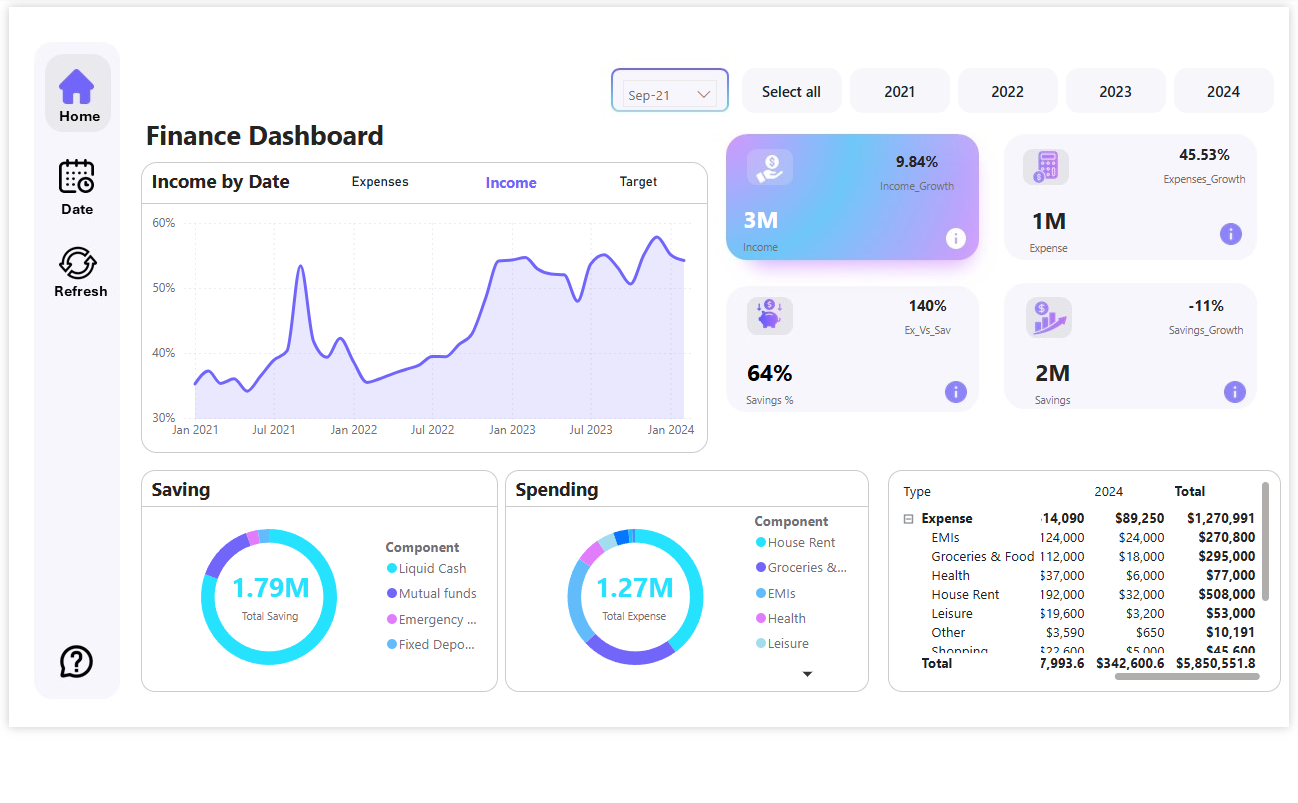

This screenshot's page, from the dashboard's own definition file:
{"tool":"powerbi","page":{"name":"Page 1","canvas":[1280,720],"ordinal":0},"visuals":[{"type":"advancedSlicerVisual","fields":{"Values":["FinData.Year"]},"box":[728,56,545,55],"z":0},{"type":"donutChart","title":"Spending","fields":{"Category":["FinData.Component"],"Y":["FinData.Expense"]},"box":[495.7,462.6,364.4,222.6],"z":1000},{"type":"donutChart","title":"Saving ","fields":{"Category":["FinData.Component"],"Y":["FinData.Saving"]},"box":[132,463,357,222],"z":2000},{"type":"pivotTable","fields":{"Values":["FinData.Total_Value"],"Rows":["FinData.Type","FinData.Component"],"Columns":["FinData.Year"]},"box":[878.7,462.6,393.7,222.6],"z":3000},{"type":"areaChart","fields":{"Category":["FinData.Date"],"Y":["FinData.Line_Chart_Meaures"]},"box":[132,155,567,291],"z":4000},{"type":"advancedSlicerVisual","fields":{"Values":["Line_Selection_Table.Type"]},"box":[333,135,404,83],"z":5000},{"type":"textbox","box":[132,104,284,51],"z":6000},{"type":"card","fields":{"Values":["FinData.Expense"]},"box":[991,181,97,82],"z":7000},{"type":"card","fields":{"Values":["FinData.Income"]},"box":[709,186,85,71],"z":8000},{"type":"card","fields":{"Values":["FinData.Savings"]},"box":[999,337,89,74],"z":9000},{"type":"card","fields":{"Values":["FinData.Savings %"]},"box":[718,337,85,74],"z":10000},{"type":"slicer","fields":{"Values":["Selected_Date.Month-Yr"]},"box":[604,63,114,41],"z":11000},{"type":"card","fields":{"Values":["FinData.Savings_Growth"]},"box":[1150,270,94,77],"z":12000},{"type":"card","fields":{"Values":["FinData.Expenses_Growth"]},"box":[1147,116,97,82],"z":13000},{"type":"card","fields":{"Values":["FinData.Income_Growth"]},"box":[849,130,118,68],"z":14000},{"type":"card","fields":{"Values":["FinData.Ex_Vs_Sav"]},"box":[870,267,97,83],"z":15000},{"type":"actionButton","box":[25,147,83,64],"z":16000},{"type":"actionButton","box":[33,234,75,59],"z":18000},{"type":"card","fields":{"Values":["FinData.Total Expense for Pie Chart"]},"box":[564,541,122,94],"z":19000},{"type":"card","fields":{"Values":["FinData.Total Saving"]},"box":[167,513,188,150],"z":20000}]}

Visuals, with their boxes on the page's 1280x720 design canvas (x1, y1, x2, y2). These are canvas units, not pixel positions in the 1298x803 screenshot, which may show the page scaled, cropped or inside an application window:
advancedSlicerVisual - FinData.Year: [left=728, top=56, right=1273, bottom=111]
"Spending" donutChart: [left=496, top=463, right=860, bottom=685]
"Saving " donutChart: [left=132, top=463, right=489, bottom=685]
pivotTable - FinData.Total_Value x FinData.Type: [left=879, top=463, right=1272, bottom=685]
areaChart - FinData.Date x FinData.Line_Chart_Meaures: [left=132, top=155, right=699, bottom=446]
advancedSlicerVisual - Line_Selection_Table.Type: [left=333, top=135, right=737, bottom=218]
textbox: [left=132, top=104, right=416, bottom=155]
card - FinData.Expense: [left=991, top=181, right=1088, bottom=263]
card - FinData.Income: [left=709, top=186, right=794, bottom=257]
card - FinData.Savings: [left=999, top=337, right=1088, bottom=411]
card - FinData.Savings %: [left=718, top=337, right=803, bottom=411]
slicer - Selected_Date.Month-Yr: [left=604, top=63, right=718, bottom=104]
card - FinData.Savings_Growth: [left=1150, top=270, right=1244, bottom=347]
card - FinData.Expenses_Growth: [left=1147, top=116, right=1244, bottom=198]
card - FinData.Income_Growth: [left=849, top=130, right=967, bottom=198]
card - FinData.Ex_Vs_Sav: [left=870, top=267, right=967, bottom=350]
actionButton: [left=25, top=147, right=108, bottom=211]
actionButton: [left=33, top=234, right=108, bottom=293]
card - FinData.Total Expense for Pie Chart: [left=564, top=541, right=686, bottom=635]
card - FinData.Total Saving: [left=167, top=513, right=355, bottom=663]
